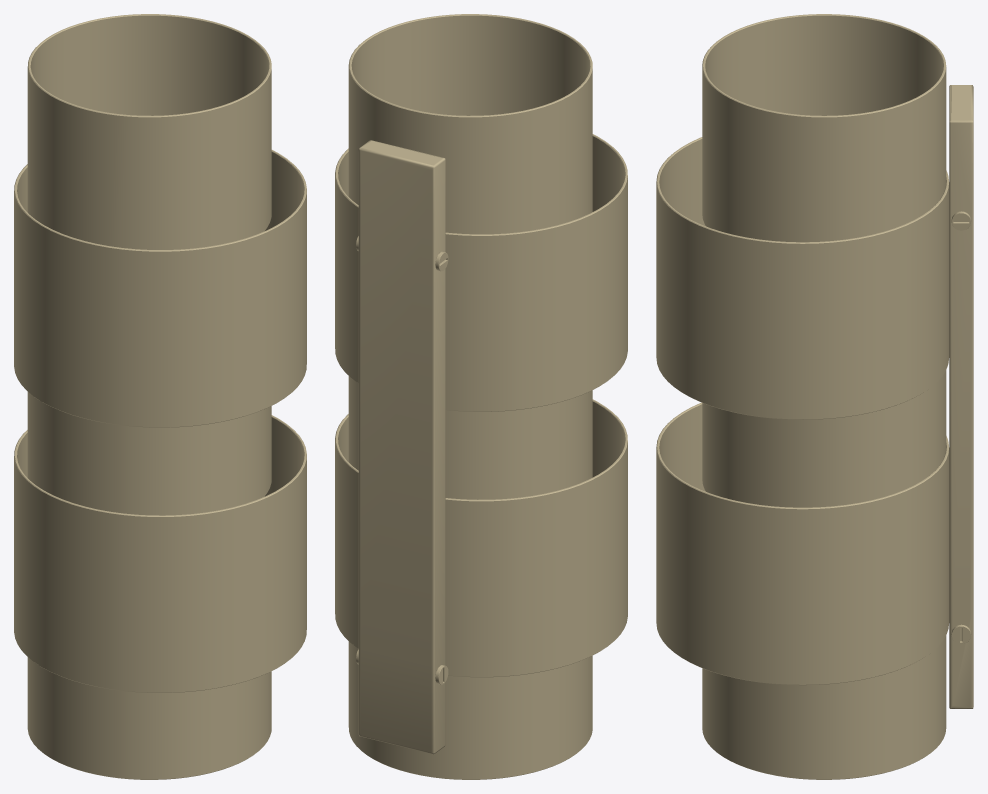
Rendered from designconnected-ring-wall-lamp-8952.optimized.glb.
The picture shows the model from 3 angles, left to right: view 1: azimuth 30°, elevation 25°; view 2: azimuth 150°, elevation 25°; view 3: azimuth 270°, elevation 25°; orthographic projection.
Parts seen in each view (by area): view 1: CTO_Lighting_Ring_Wall_mat1; view 2: CTO_Lighting_Ring_Wall_mat1; view 3: CTO_Lighting_Ring_Wall_mat1.
Boxes of the visible parts, left/top/right/bottom form: CTO_Lighting_Ring_Wall_mat1: left=14, top=14, right=306, bottom=779; CTO_Lighting_Ring_Wall_mat1: left=335, top=14, right=627, bottom=779; CTO_Lighting_Ring_Wall_mat1: left=656, top=14, right=973, bottom=779.
Size of the model in its own units: 0.12 by 0.3 by 0.13.
